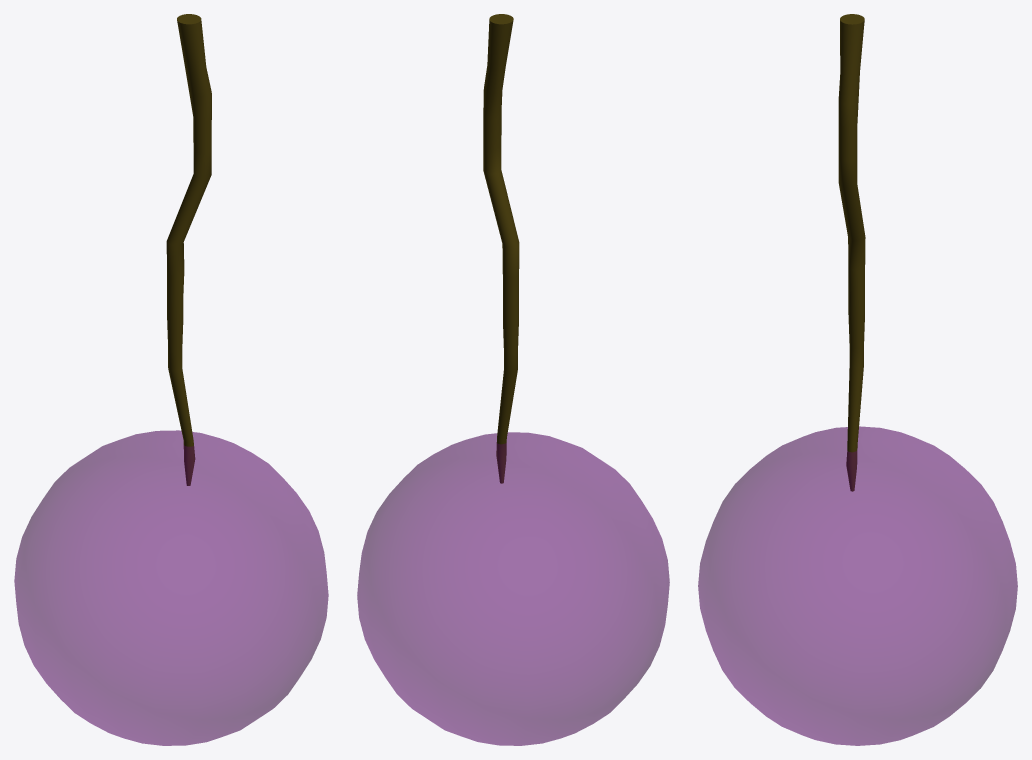
File: gift.fbx
3 views of the same model, side by side, from view 1: azimuth 30°, elevation 25°; view 2: azimuth 150°, elevation 25°; view 3: azimuth 270°, elevation 25° (orthographic).
Visible parts, largest first — view 1: gift9; view 2: gift9; view 3: gift9.
Part boxes in pixels (x1,y1,x2,y2): gift9: [14, 14, 328, 745]; gift9: [357, 14, 669, 745]; gift9: [698, 14, 1017, 745].
Bounding box in the file's own units: 171 × 424 × 171.
